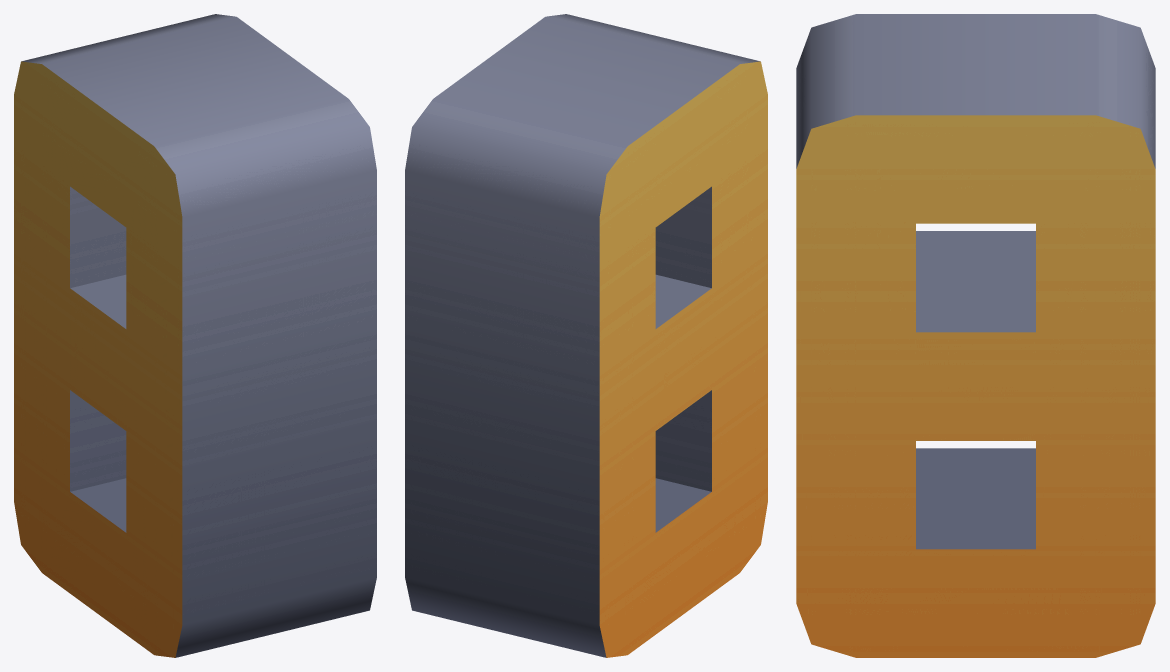
The model's file is number-8.glb.
3 views of the same model, side by side, from view 1: azimuth 30°, elevation 25°; view 2: azimuth 150°, elevation 25°; view 3: azimuth 270°, elevation 25° (orthographic). The views are drawn at different scales.
Visible parts, largest first — view 1: number-8; view 2: number-8; view 3: number-8.
Part boxes in pixels (box(x1,y1,x2,y2)): number-8: box(14, 14, 376, 657); number-8: box(405, 14, 767, 657); number-8: box(796, 14, 1155, 657).
Bounding box in the file's own units: 0.2 × 0.5 × 0.3.
1 material, 1 textured.
